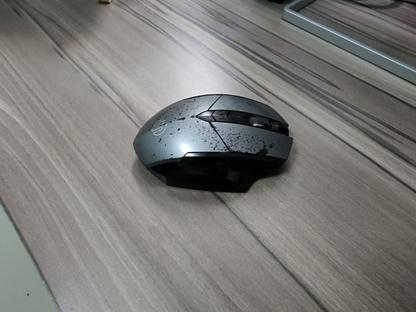mouse: (132, 92, 293, 193)
